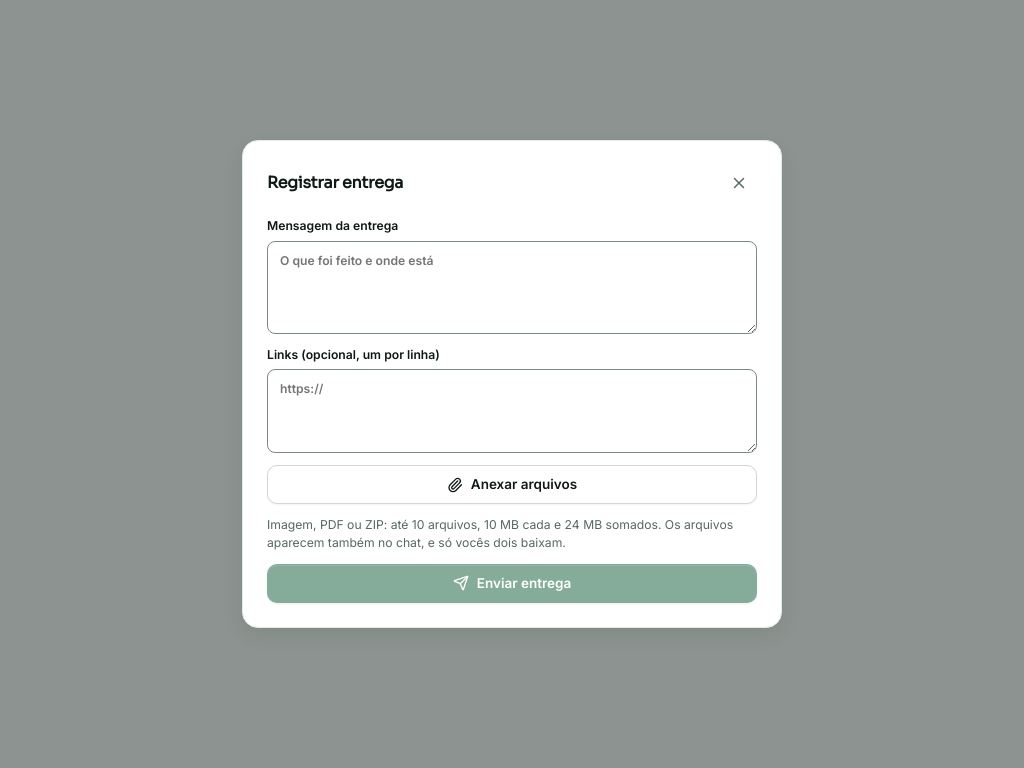
Test: DeliverModal › link sem http(s) não deixa enviar e diz qual é
Type "Pronto" into the text box labelled "Mensagem da entrega".
click(512, 287); type("Pronto")  # box [267,241,757,334]
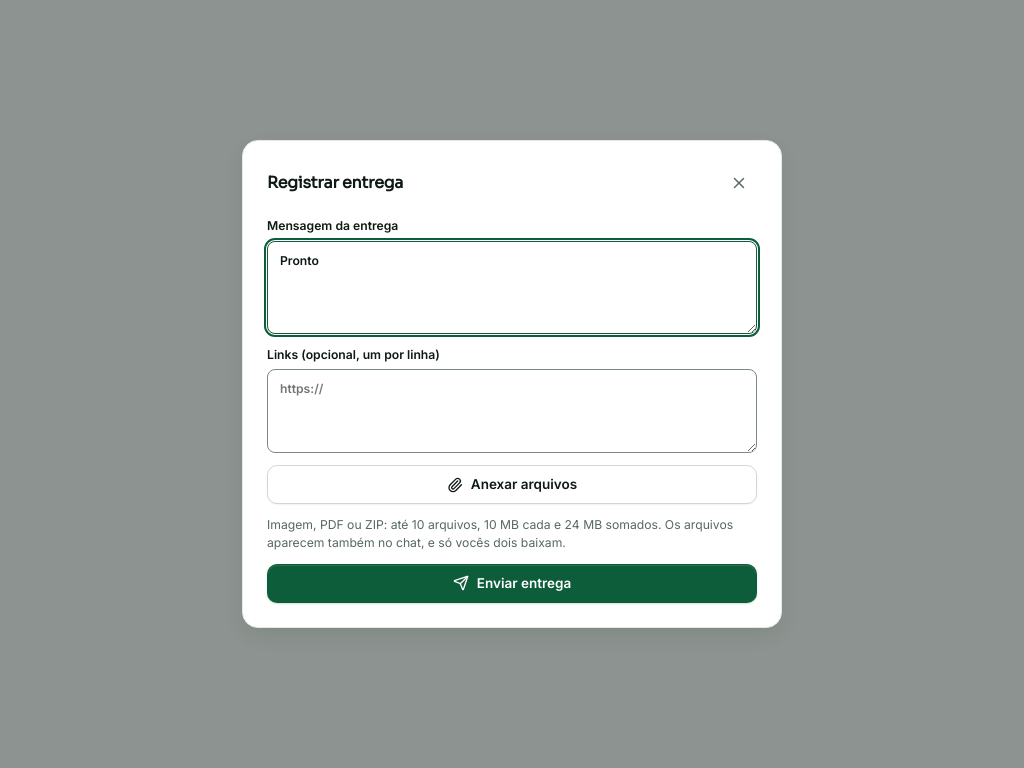
Type "drive.test/pasta" into the text box labelled "Links (opcional, um por linha)".
click(512, 412); type("drive.test/pasta")  # box [267,370,757,454]
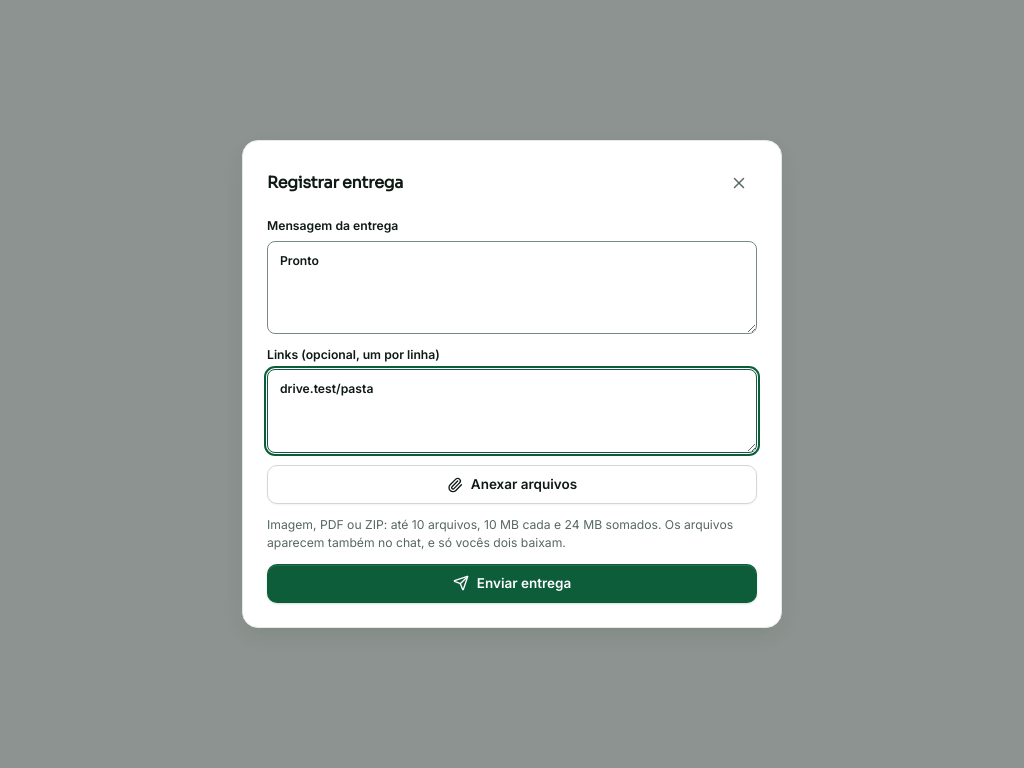
Click the button "Enviar entrega".
click(512, 583)  # box [267,564,757,603]
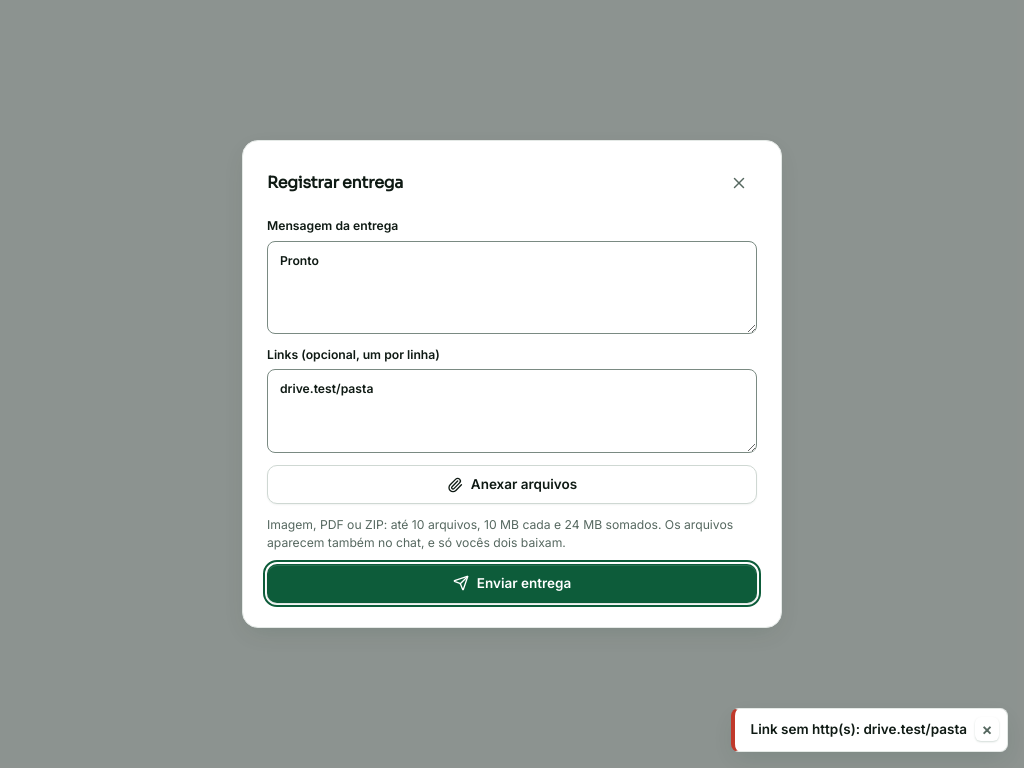
expect the text "Link sem http(s): drive.test/pasta" is shown: met, box [751,720,967,740]
